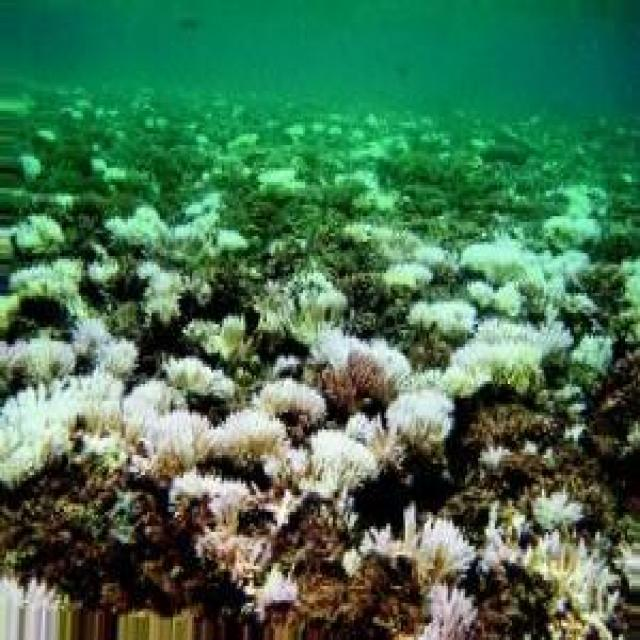bleached coral: (122, 360, 325, 472), (105, 195, 248, 324), (0, 370, 122, 486), (262, 413, 404, 496), (478, 490, 589, 592), (442, 318, 572, 397), (461, 238, 589, 315), (360, 503, 475, 588), (171, 470, 301, 528), (256, 273, 348, 344), (311, 328, 411, 386), (342, 222, 456, 271), (10, 260, 84, 316), (388, 388, 452, 451), (198, 530, 271, 584), (0, 338, 72, 382), (419, 585, 474, 639), (72, 318, 135, 364), (408, 300, 476, 336), (14, 215, 64, 252), (258, 567, 298, 608)
